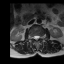CCS_normal: (35, 33, 37, 43)
LFS_normal: (40, 33, 42, 41)
LLS_normal: (37, 33, 40, 41)
RFS_normal: (31, 33, 33, 40)
RLS_normal: (33, 33, 35, 40)
